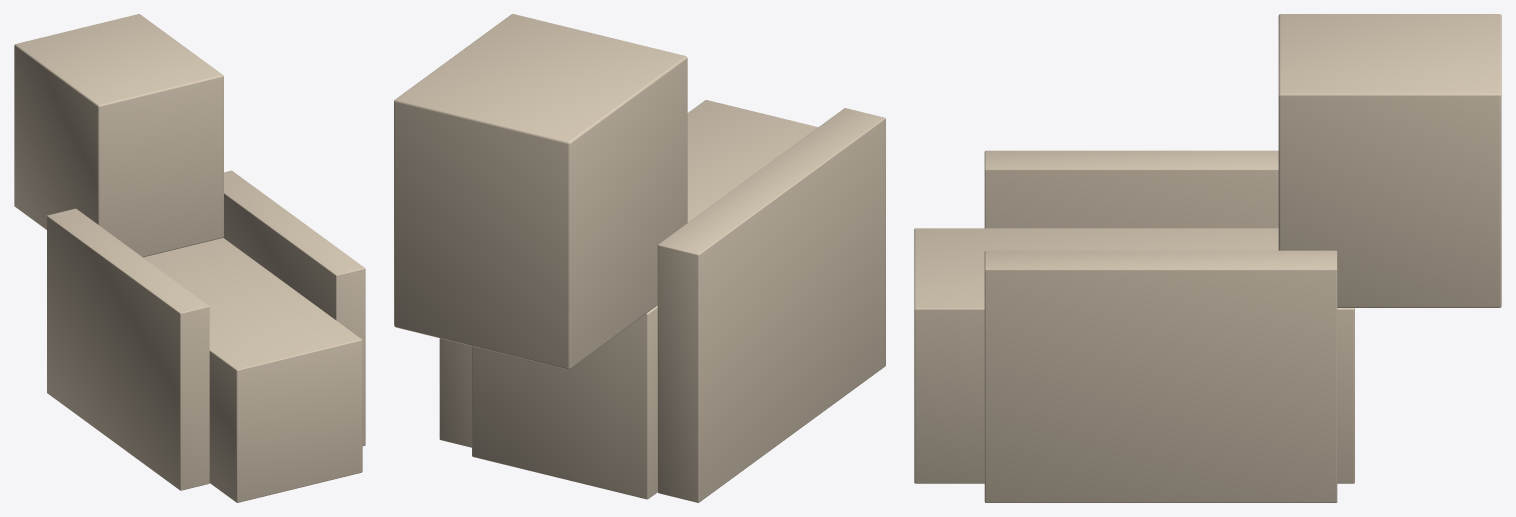
The picture shows the model from 3 angles, left to right: view 1: azimuth 30°, elevation 25°; view 2: azimuth 150°, elevation 25°; view 3: azimuth 270°, elevation 25°; orthographic projection. The views are drawn at different scales.
Parts seen in each view (by area): view 1: MH67BR; view 2: MH67BR; view 3: MH67BR.
Part boxes in pixels (x1,y1,x2,y2): MH67BR: (14, 14, 365, 502); MH67BR: (394, 14, 885, 502); MH67BR: (914, 14, 1501, 502).
Bounding box in the file's own units: 0.743 × 1.13 × 1.55.
